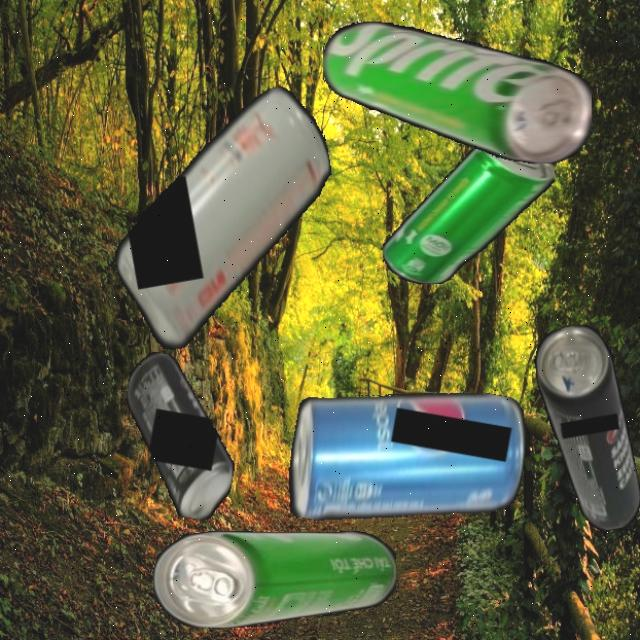debris: (92, 81, 357, 356), (281, 362, 534, 554), (322, 22, 592, 164), (382, 136, 554, 284), (108, 349, 251, 524), (530, 320, 640, 537), (153, 530, 396, 628)
